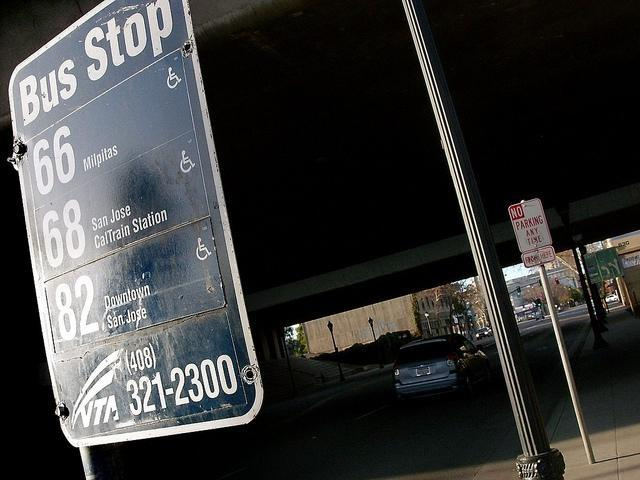car: (392, 333, 494, 404), (476, 327, 492, 340)
